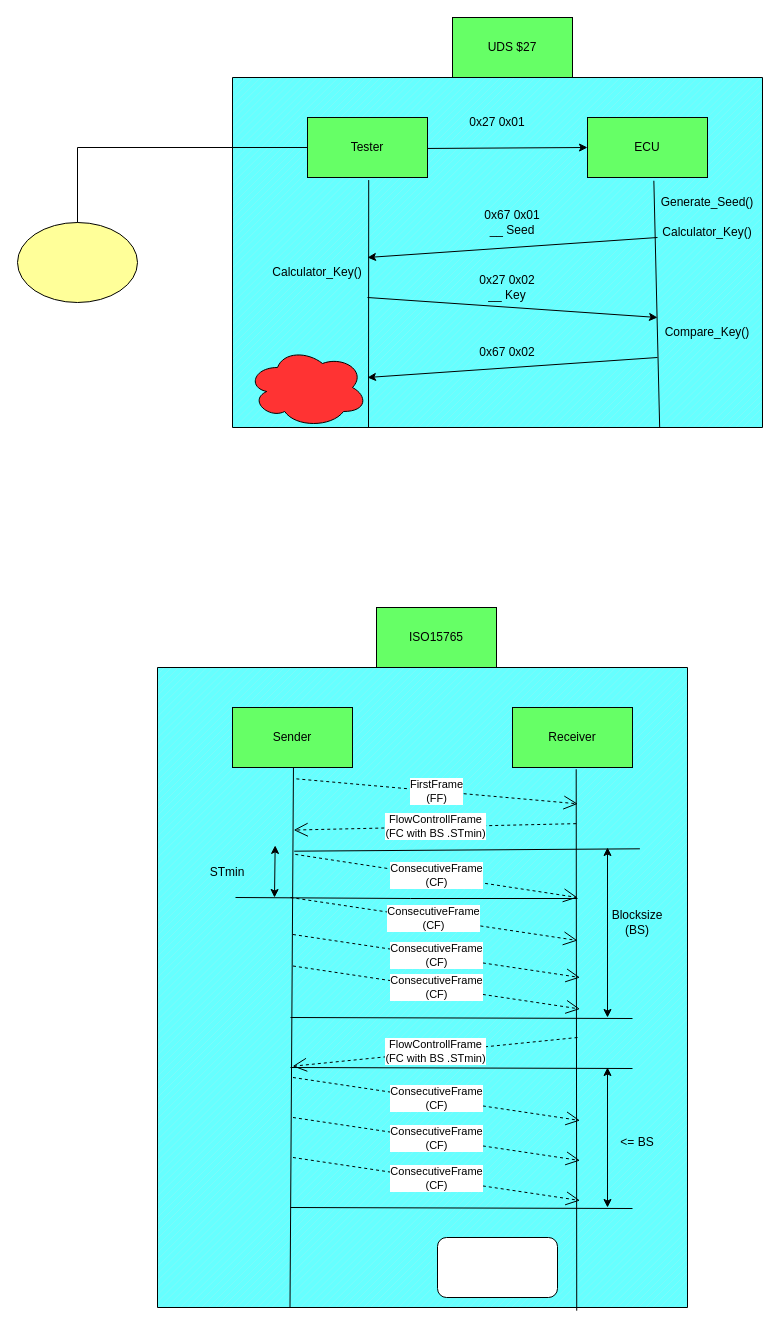
Image size: 780x1330. Some labels were removed from this diagram. The centre of each missing label's shape, as x and y in pixels:
End of transmission, no concluding flowControl: point (497, 1267)
Input (Button click): point (77, 262)
LED ON: point (307, 387)
